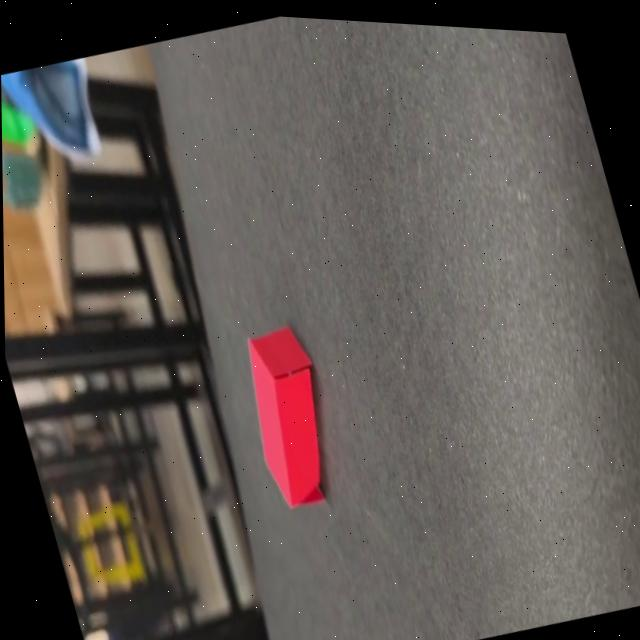red block: (226, 315, 348, 515)
